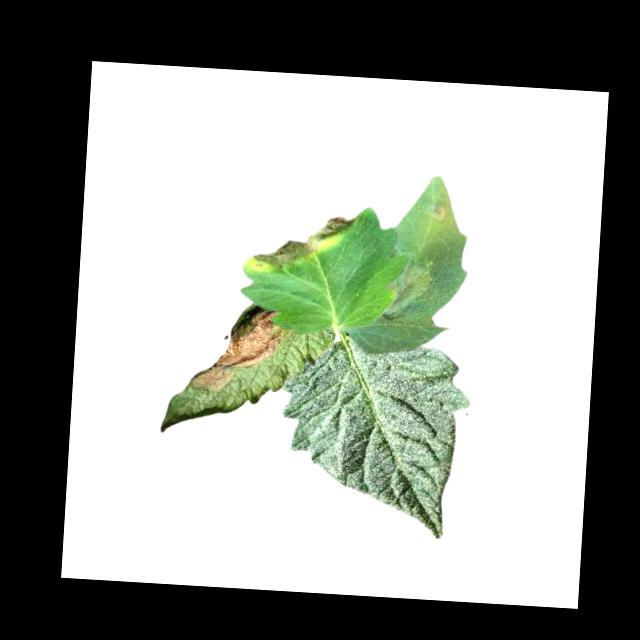Late_blight: (189, 306, 286, 397), (244, 213, 354, 279), (382, 244, 439, 323), (431, 200, 456, 232)
healthy: (274, 338, 473, 541)
